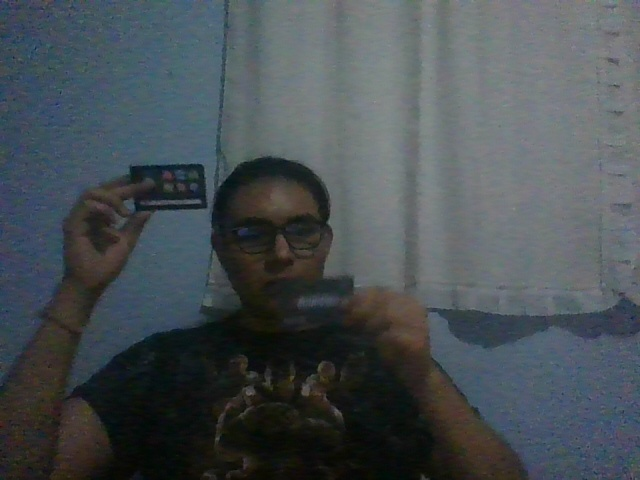tarjeta: (274, 273, 355, 327), (128, 163, 208, 212)
